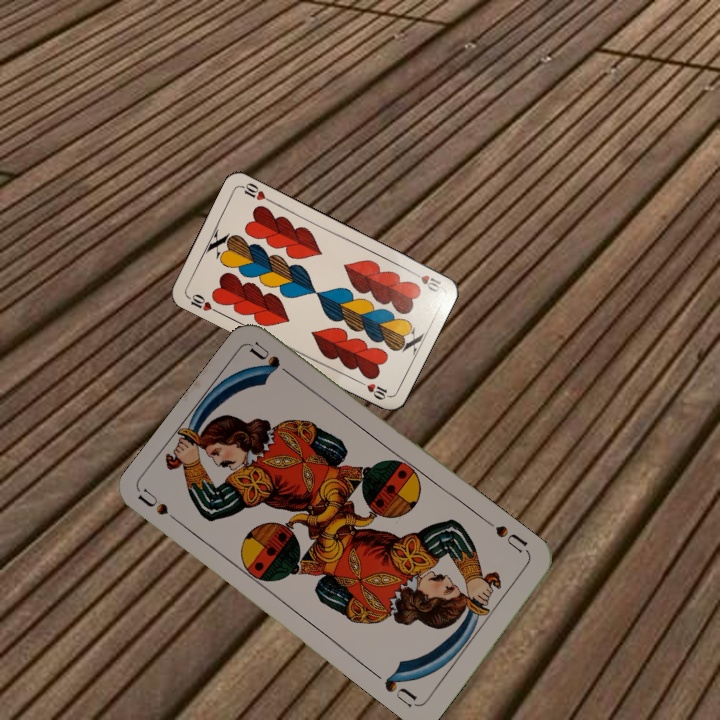H10: (407, 267, 445, 295), (183, 290, 221, 315)
SU: (135, 485, 188, 531), (491, 521, 533, 559)
